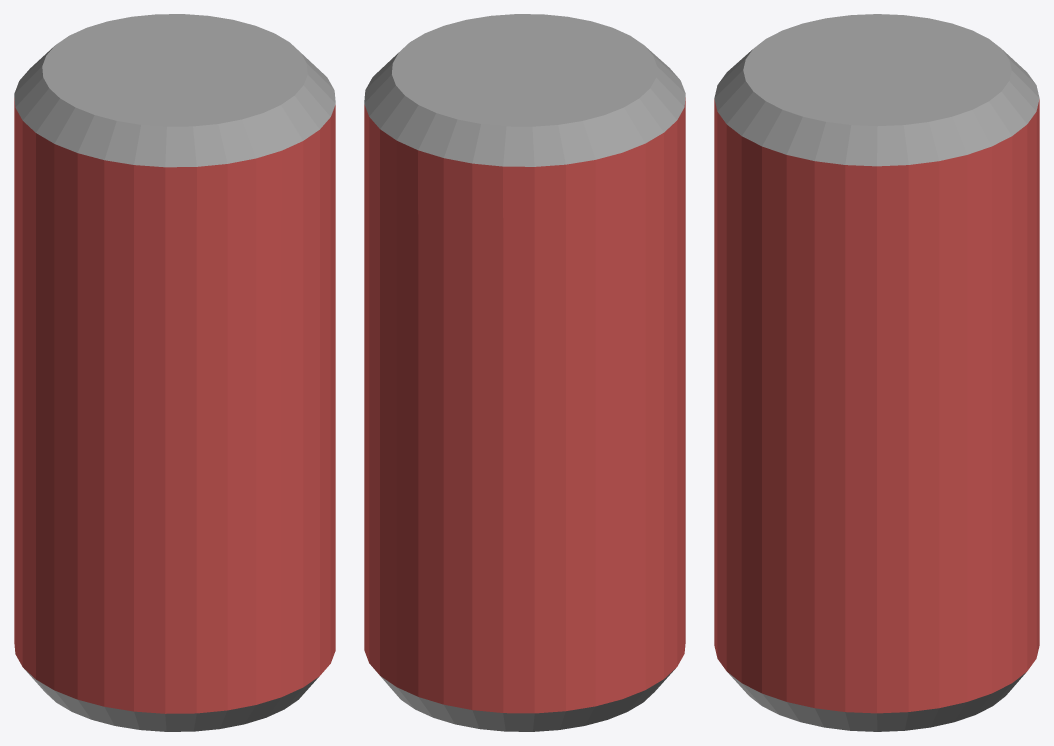
The model's file is Soda.fbx.
3 renders of one model, left to right at view 1: azimuth 30°, elevation 25°; view 2: azimuth 150°, elevation 25°; view 3: azimuth 270°, elevation 25°, orthographic.
Visible parts, largest first — view 1: Soda; view 2: Soda; view 3: Soda.
Part boxes in pixels (x1=…): Soda: x1=14, y1=14, x2=335, y2=731; Soda: x1=364, y1=14, x2=685, y2=731; Soda: x1=714, y1=14, x2=1039, y2=731.
Bounding box in the file's own units: 6.11 × 12.66 × 6.18.
